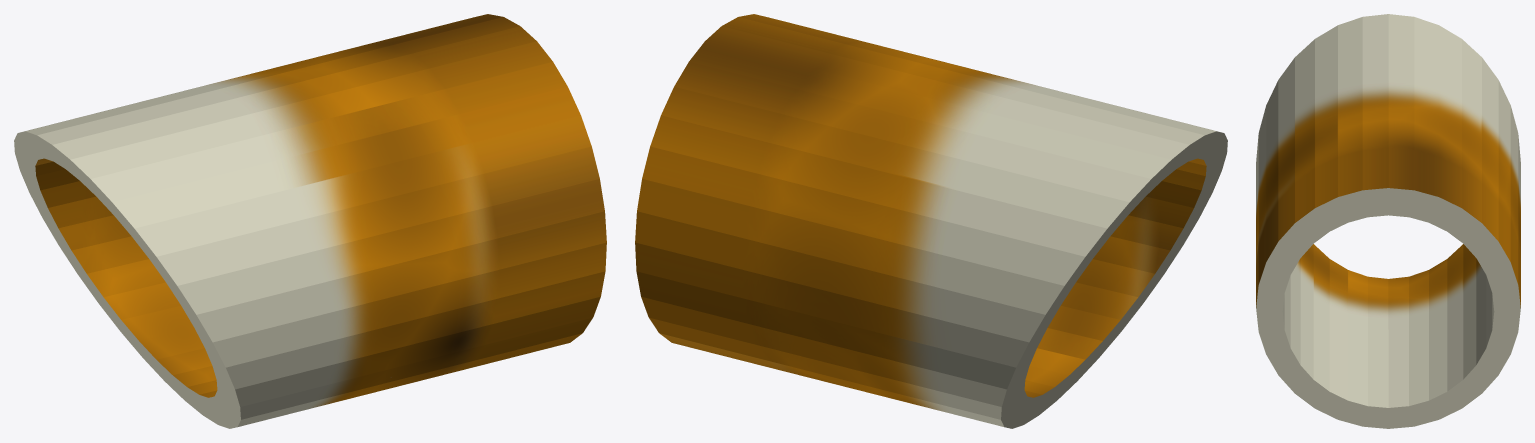
File: ちくわ(おでん).fbx
3 renders of one model, left to right at view 1: azimuth 30°, elevation 25°; view 2: azimuth 150°, elevation 25°; view 3: azimuth 270°, elevation 25°, orthographic. The views are drawn at different scales.
Parts seen in each view (by area): view 1: 円柱; view 2: 円柱; view 3: 円柱.
Boxes of the visible parts, x1,y1,x2,y2 form: 円柱: (14, 14, 606, 428); 円柱: (635, 14, 1227, 428); 円柱: (1256, 14, 1520, 428).
Size of the model in its own units: 319 by 202 by 200.
1 material, 1 textured.
